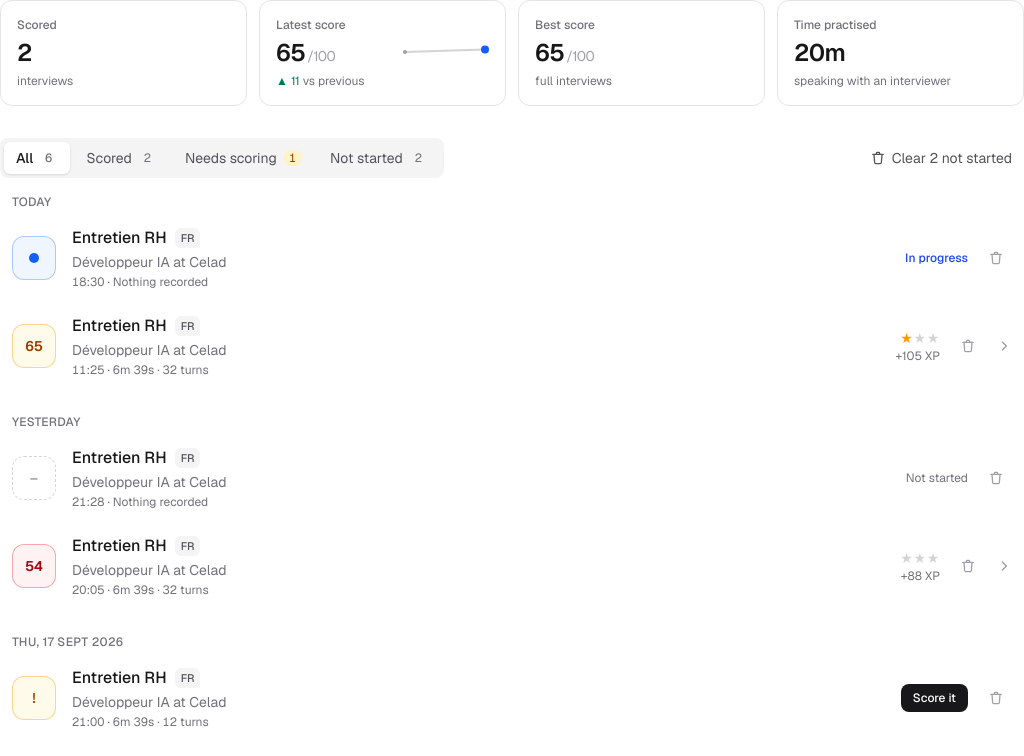
Test case: InterviewHistoryList › clears every not-started session in one request, leaving the fresh one alone
The width and height of the screenshot is (1024, 756).
Click the button "Clear 2 not started".
click(941, 158)  # box x1=858 y1=140 x2=1023 y2=176
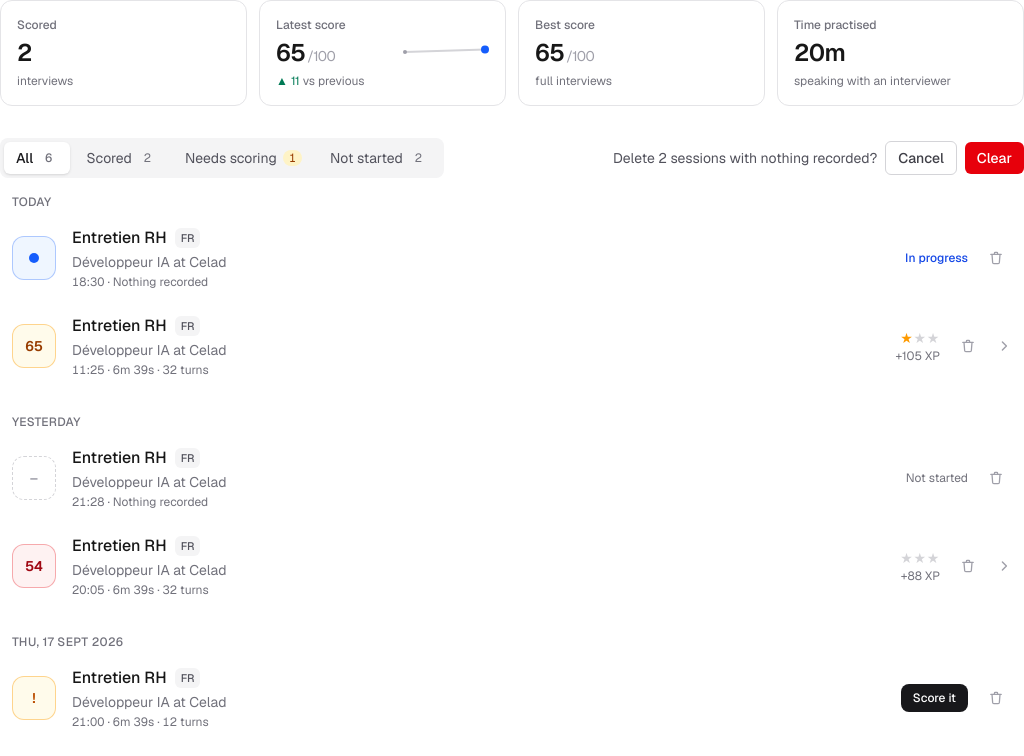
Click the button "Clear".
click(994, 158)  # box x1=965 y1=142 x2=1023 y2=174
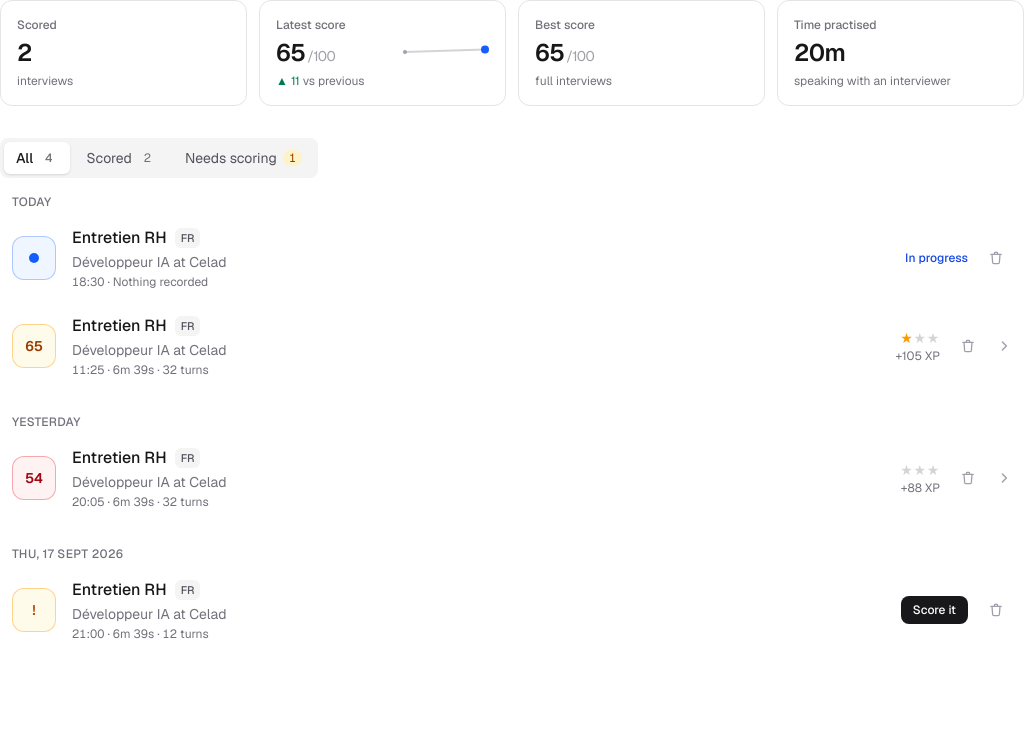
Expected: the text "In progress" is shown, x1=905 y1=250 x2=968 y2=266
Result: the number of list items is 4 at x1=0 y1=214 x2=1023 y2=302; x1=0 y1=302 x2=1023 y2=390; x1=0 y1=434 x2=1023 y2=522; x1=0 y1=566 x2=1023 y2=654
Result: the button "Not started" is gone
